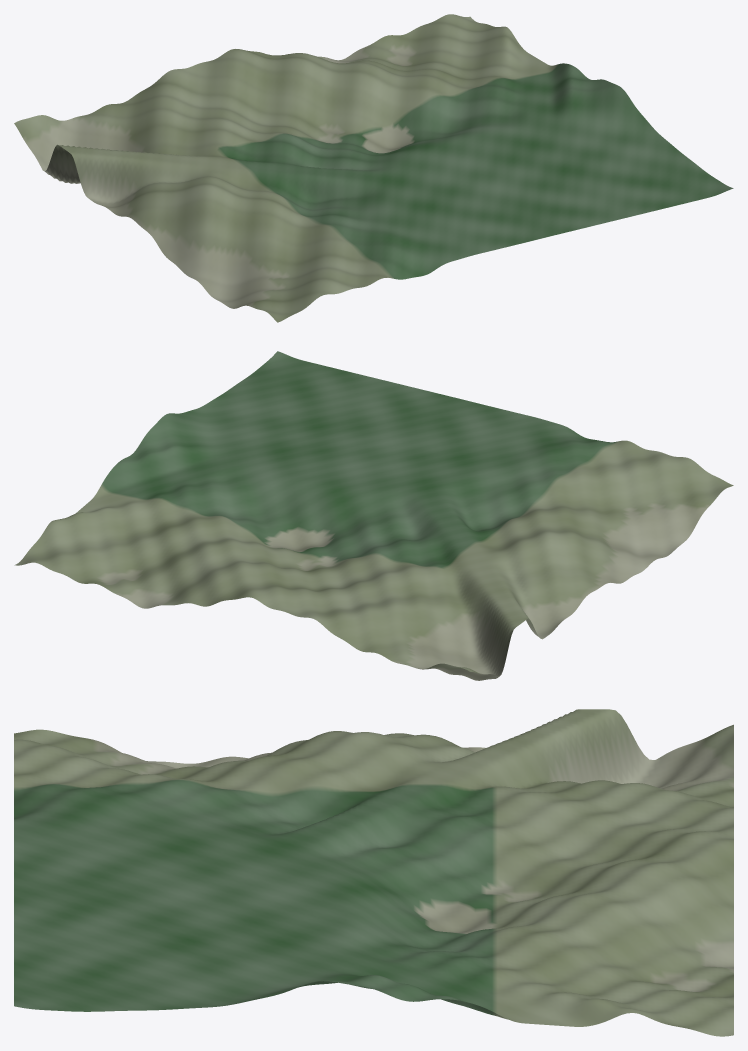
The model's file is terrain_2_1.glb.
The picture shows the model from 3 angles, top to bottom: view 1: azimuth 30°, elevation 25°; view 2: azimuth 150°, elevation 25°; view 3: azimuth 270°, elevation 25°; orthographic projection. The views are drawn at different scales.
Parts seen in each view (by area): view 1: terrain_2_1; view 2: terrain_2_1; view 3: terrain_2_1.
Boxes of the visible parts, x1,y1,x2,y2 form: terrain_2_1: [14, 14, 733, 322]; terrain_2_1: [14, 351, 733, 680]; terrain_2_1: [14, 709, 733, 1036].
Size of the model in its own units: 512 by 76.64 by 512.
